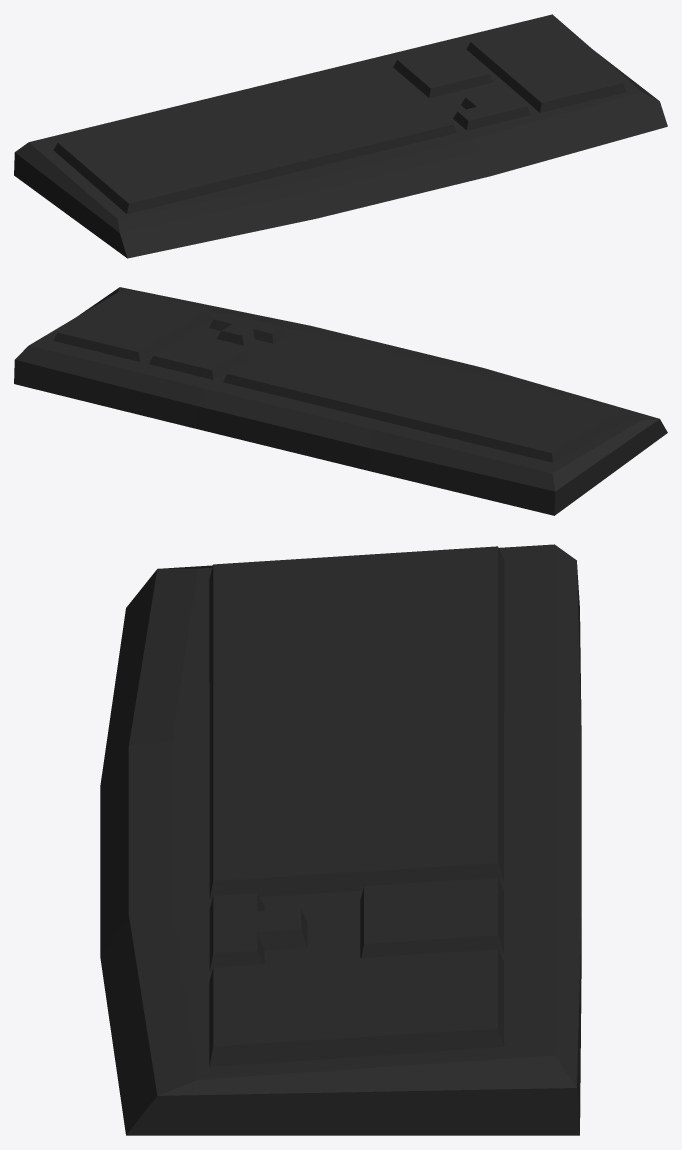
Rendered from pc-keyboard.glb.
3 views of the same model, one above another, from view 1: azimuth 30°, elevation 25°; view 2: azimuth 150°, elevation 25°; view 3: azimuth 270°, elevation 25° (orthographic). The views are drawn at different scales.
Parts seen in each view (by area): view 1: pc-keyboard; view 2: pc-keyboard; view 3: pc-keyboard.
Part boxes in pixels (left/top/right/bottom): pc-keyboard: left=14, top=14, right=667, bottom=258; pc-keyboard: left=14, top=287, right=667, bottom=515; pc-keyboard: left=100, top=544, right=581, bottom=1135.
Bounding box in the file's own units: 0.5105 × 0.0381 × 0.1969.
1 material, 1 textured.
